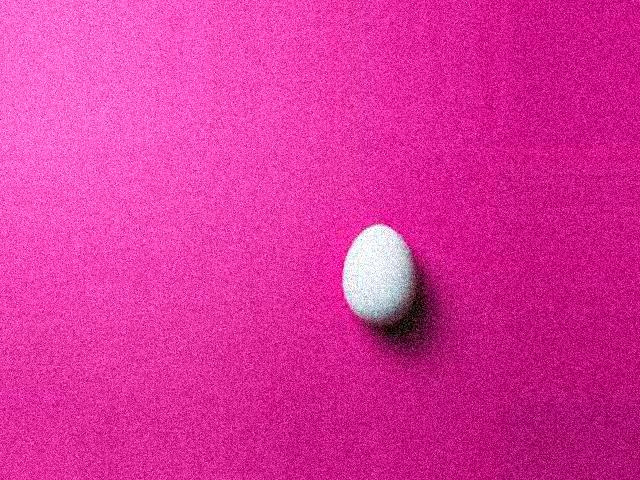egg: (341, 224, 415, 325)
